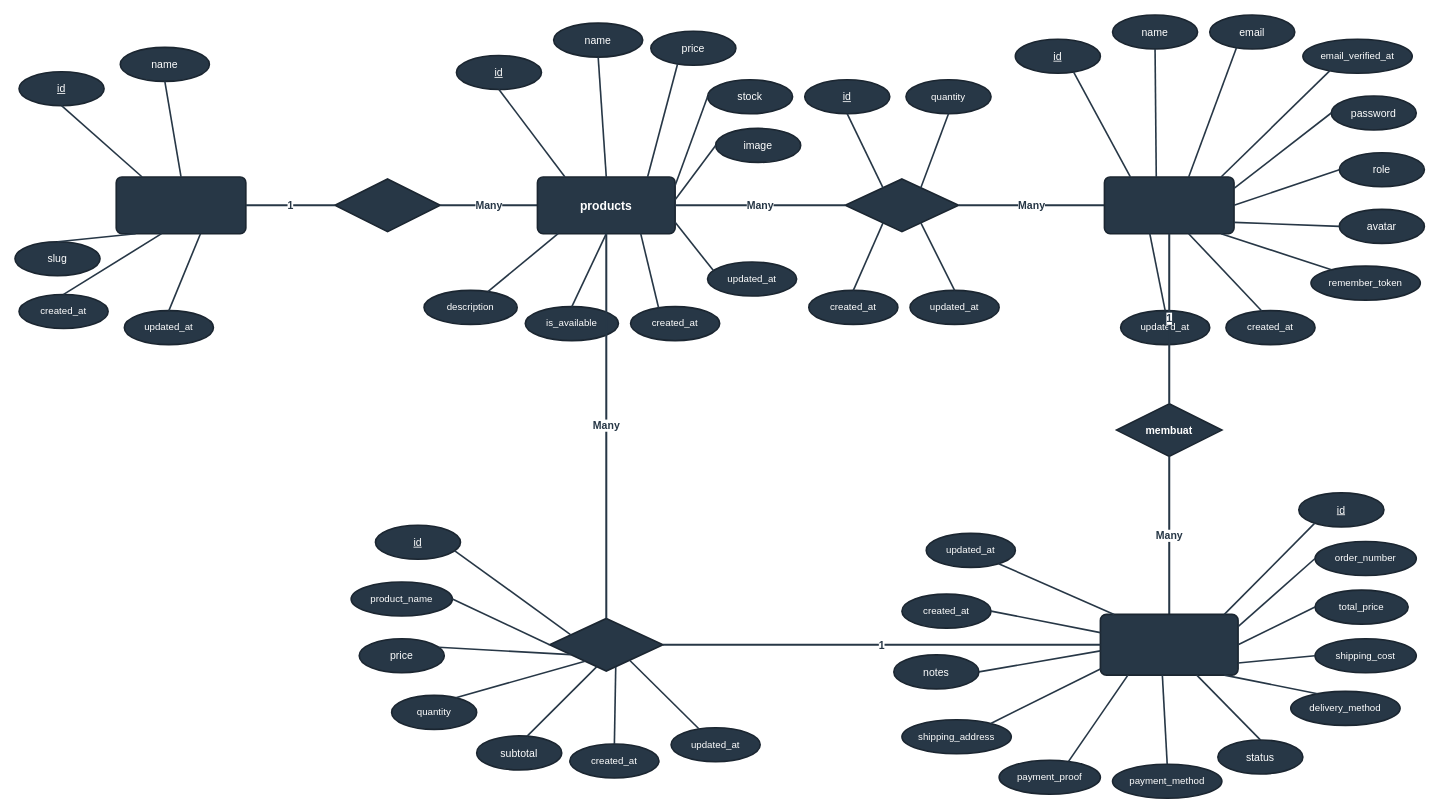
Image size: 1439x812. Some labels were removed from this diagram. Each missing label, with the centre of its shape:
"cart_items" goes at [901,205].
"categories" goes at [180,205].
"memiliki" goes at [387,205].
"order_items" goes at [605,644].
"orders" goes at [1168,644].
"users" goes at [1168,205].
